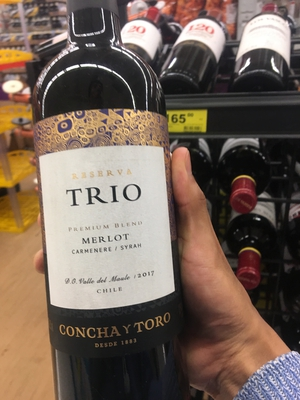trio merlot: (38, 25, 207, 400)
